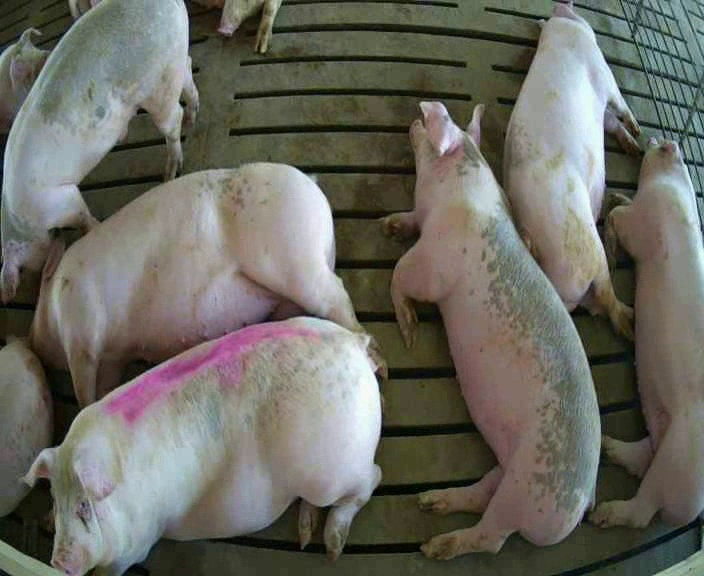pig: (384, 102, 600, 559), (25, 317, 380, 574), (4, 2, 198, 301), (504, 1, 639, 337), (591, 136, 703, 527), (0, 336, 52, 516), (0, 28, 49, 133)
